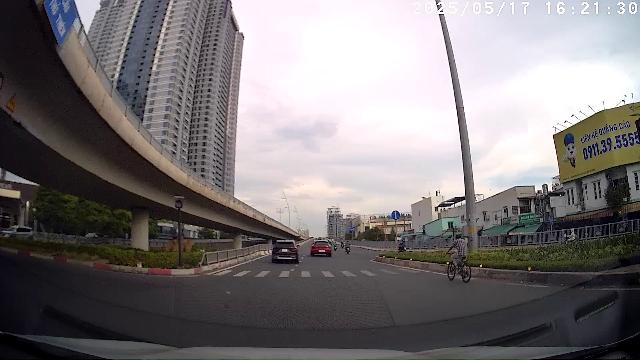301a-cac-xe-chi-duoc-di-thang: (391, 209, 401, 220)
